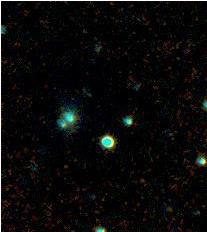star: (74, 79, 104, 109)
